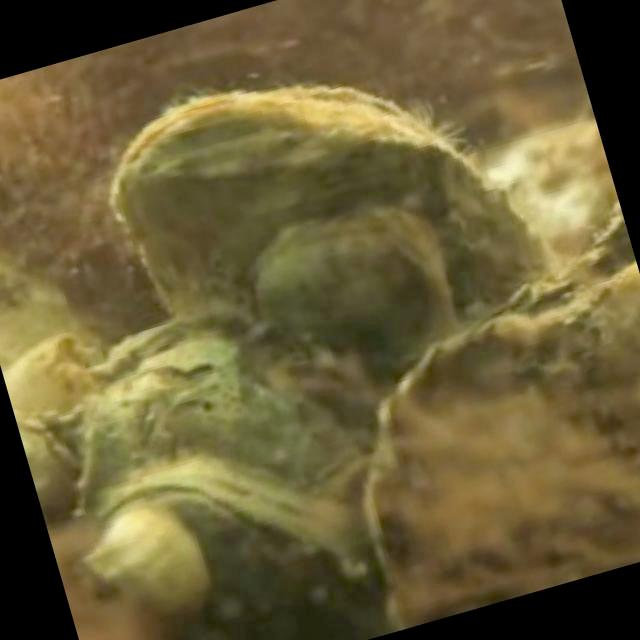Oyster-Closed: (113, 83, 554, 320), (375, 270, 640, 627), (259, 211, 460, 367), (100, 451, 356, 561)
